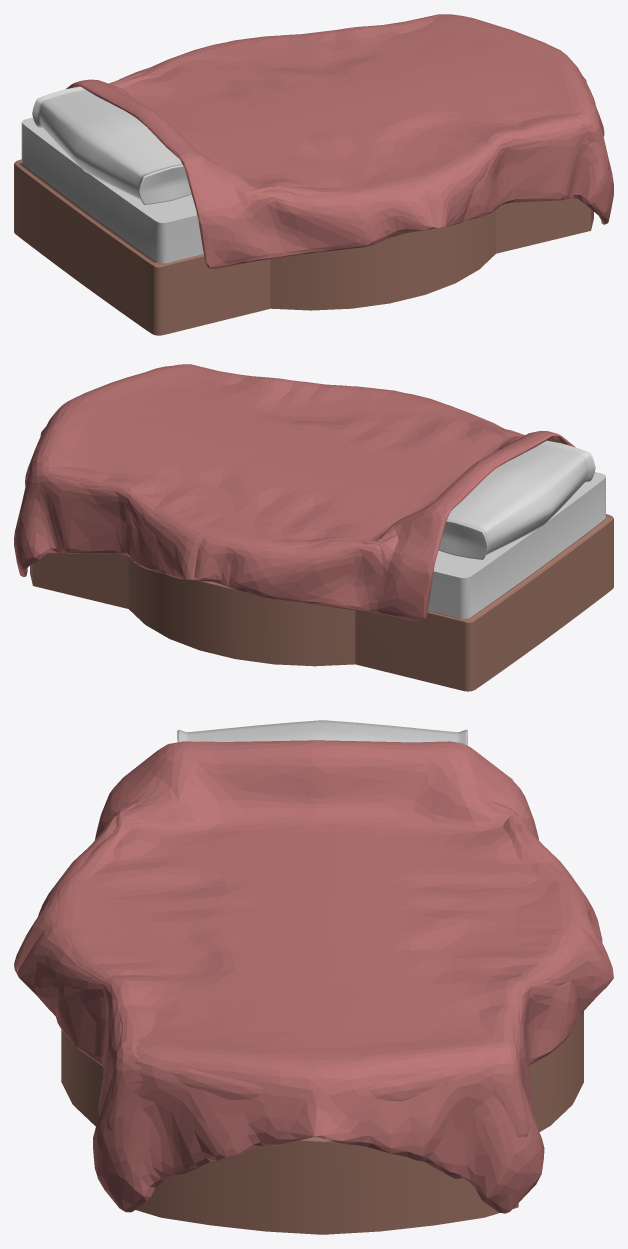
File: yatak.fbx
3 renders of one model, top to bottom at view 1: azimuth 30°, elevation 25°; view 2: azimuth 150°, elevation 25°; view 3: azimuth 270°, elevation 25°, orthographic. The views are drawn at different scales.
Parts seen in each view (by area): view 1: yatak1; view 2: yatak1; view 3: yatak1.
Boxes of the visible parts, box(x1,y1,x2,y2) form: yatak1: box(14, 14, 613, 335); yatak1: box(14, 364, 613, 691); yatak1: box(14, 720, 613, 1234).
Size of the model in its own units: 10.76 by 3.24 by 8.13.
